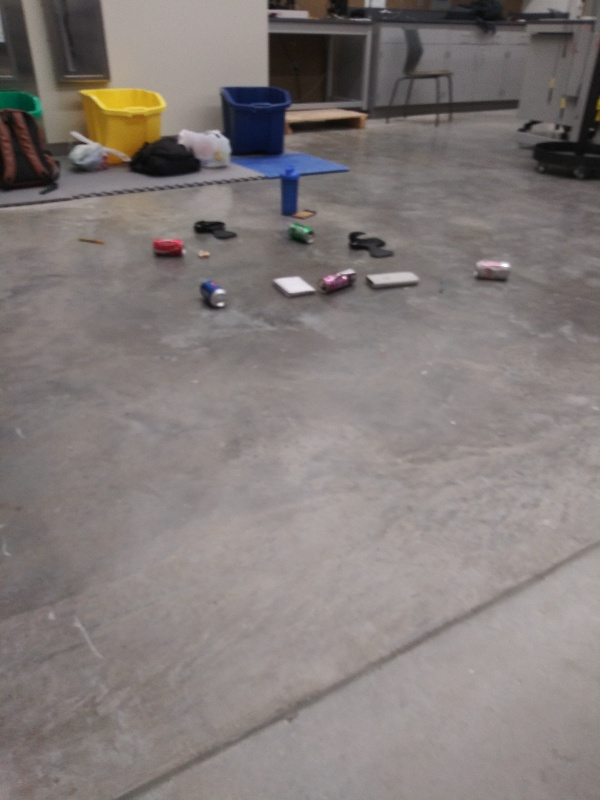can: (314, 267, 360, 295), (470, 257, 514, 286), (196, 277, 229, 310), (151, 238, 190, 257), (286, 222, 317, 244)
